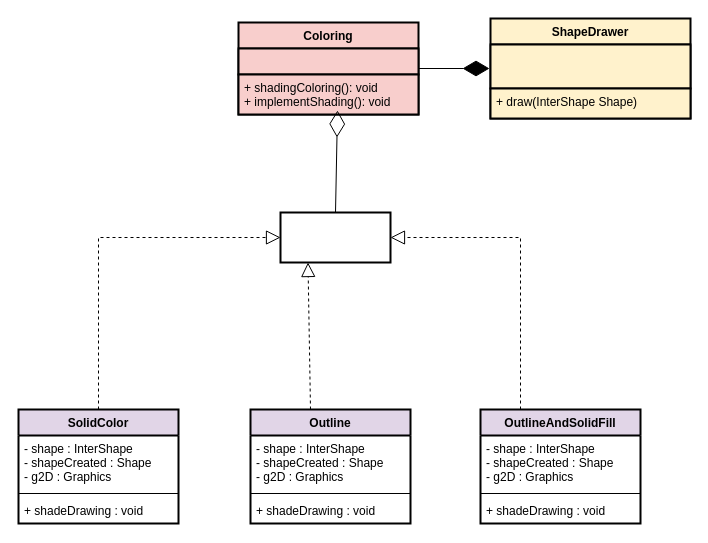
This 708x543 diagram has some shape labels left out. The shapes that lost their labels are listed below. From the top down, each one's box as (x1, y1, x2, y2) in pixels, then its label:
(237, 47, 419, 75): - interColoring : InterColoring
(489, 43, 691, 89): ~ shapeFactory : InterShapeCreate ~ drawShape : Shape
(279, 211, 391, 263): «interface» InterColoring
